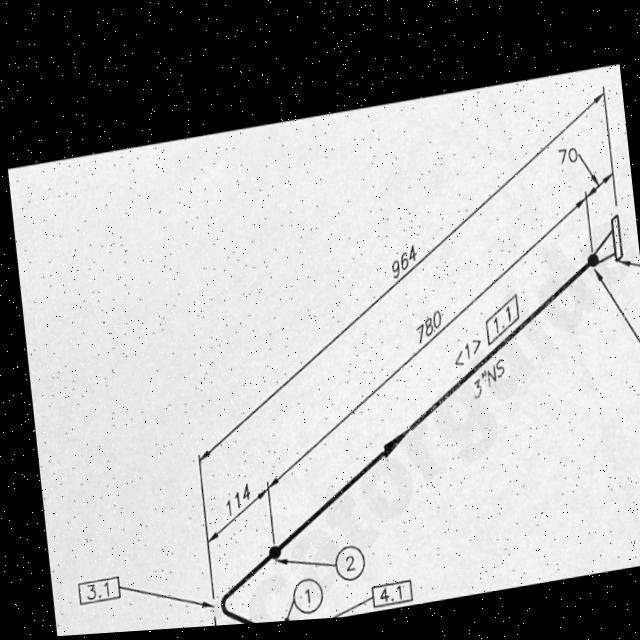Item number: (482, 294, 521, 354), (75, 575, 121, 609), (369, 581, 413, 614)
Measrement: (259, 198, 581, 503), (206, 474, 270, 547), (552, 147, 612, 206), (215, 618, 238, 629)
Pipeline: (273, 268, 590, 551)
Symbol: (580, 218, 625, 281)
Weld number: (288, 578, 324, 621), (331, 545, 366, 589)
